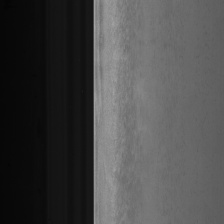silk_spot: (117, 42, 150, 205)
